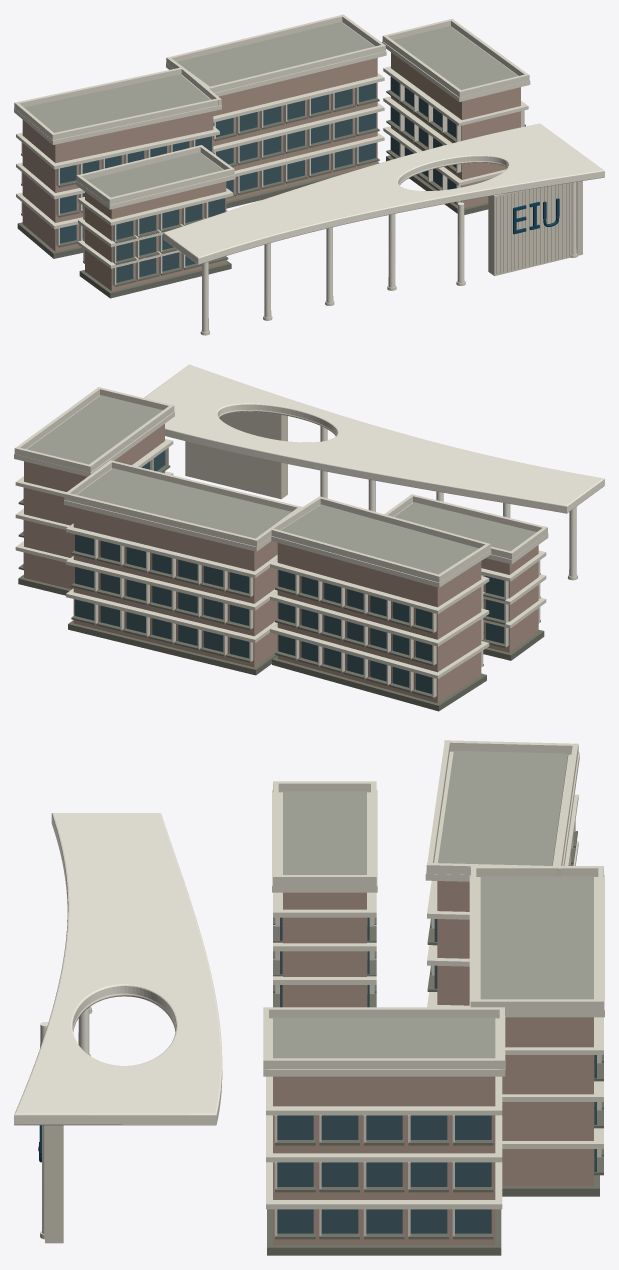
File: eiu-campus.glb
3 views of the same model, one above another, from view 1: azimuth 30°, elevation 25°; view 2: azimuth 150°, elevation 25°; view 3: azimuth 270°, elevation 25° (orthographic). The views are drawn at different scales.
Visible parts, largest first — view 1: EIU_Academic_Quarter_Campus_Shading_Concrete, EIU_Entrance_EIU_White_Concrete, EIU_Academic_Quarter_Campus_Render, EIU_Academic_Quarter_Campus_Roof_Deck, EIU_Academic_Quarter_Campus_Recessed_Glass, EIU_Academic_Quarter_Campus_Window_Reveals, EIU_Entrance_EIU_Sign_Stone, EIU_Entrance_EIU_Soffit, EIU_Entrance_EIU_Lettering; view 2: EIU_Academic_Quarter_Campus_Shading_Concrete, EIU_Academic_Quarter_Campus_Render, EIU_Entrance_EIU_White_Concrete, EIU_Academic_Quarter_Campus_Roof_Deck, EIU_Academic_Quarter_Campus_Recessed_Glass, EIU_Academic_Quarter_Campus_Window_Reveals, EIU_Entrance_EIU_Sign_Stone; view 3: EIU_Academic_Quarter_Campus_Roof_Deck, EIU_Entrance_EIU_White_Concrete, EIU_Academic_Quarter_Campus_Shading_Concrete, EIU_Academic_Quarter_Campus_Render, EIU_Academic_Quarter_Campus_Recessed_Glass, EIU_Academic_Quarter_Campus_Window_Reveals, EIU_Entrance_EIU_Sign_Stone.
Part boxes in pixels (<box>): EIU_Academic_Quarter_Campus_Shading_Concrete: <box>14,14,530,285</box>; EIU_Entrance_EIU_White_Concrete: <box>163,123,604,332</box>; EIU_Academic_Quarter_Campus_Render: <box>22,52,520,290</box>; EIU_Academic_Quarter_Campus_Roof_Deck: <box>24,22,517,197</box>; EIU_Academic_Quarter_Campus_Recessed_Glass: <box>60,77,456,282</box>; EIU_Academic_Quarter_Campus_Window_Reveals: <box>17,90,525,298</box>; EIU_Entrance_EIU_Sign_Stone: <box>488,181,582,275</box>; EIU_Entrance_EIU_Soffit: <box>200,161,577,335</box>; EIU_Entrance_EIU_Lettering: <box>513,198,559,234</box>; EIU_Academic_Quarter_Campus_Shading_Concrete: <box>14,387,548,697</box>; EIU_Academic_Quarter_Campus_Render: <box>24,424,538,703</box>; EIU_Entrance_EIU_White_Concrete: <box>144,364,604,576</box>; EIU_Academic_Quarter_Campus_Roof_Deck: <box>27,395,536,574</box>; EIU_Academic_Quarter_Campus_Recessed_Glass: <box>23,450,504,693</box>; EIU_Academic_Quarter_Campus_Window_Reveals: <box>18,465,544,711</box>; EIU_Entrance_EIU_Sign_Stone: <box>185,411,287,499</box>; EIU_Academic_Quarter_Campus_Roof_Deck: <box>273,750,593,1058</box>; EIU_Entrance_EIU_White_Concrete: <box>14,813,222,1234</box>; EIU_Academic_Quarter_Campus_Shading_Concrete: <box>263,740,604,1237</box>; EIU_Academic_Quarter_Campus_Render: <box>273,881,593,1244</box>; EIU_Academic_Quarter_Campus_Recessed_Glass: <box>277,917,596,1233</box>; EIU_Academic_Quarter_Campus_Window_Reveals: <box>267,831,603,1255</box>; EIU_Entrance_EIU_Sign_Stone: <box>45,1125,63,1243</box>.
Size of the model in its own units: 7.69 by 2.2 by 5.98.
